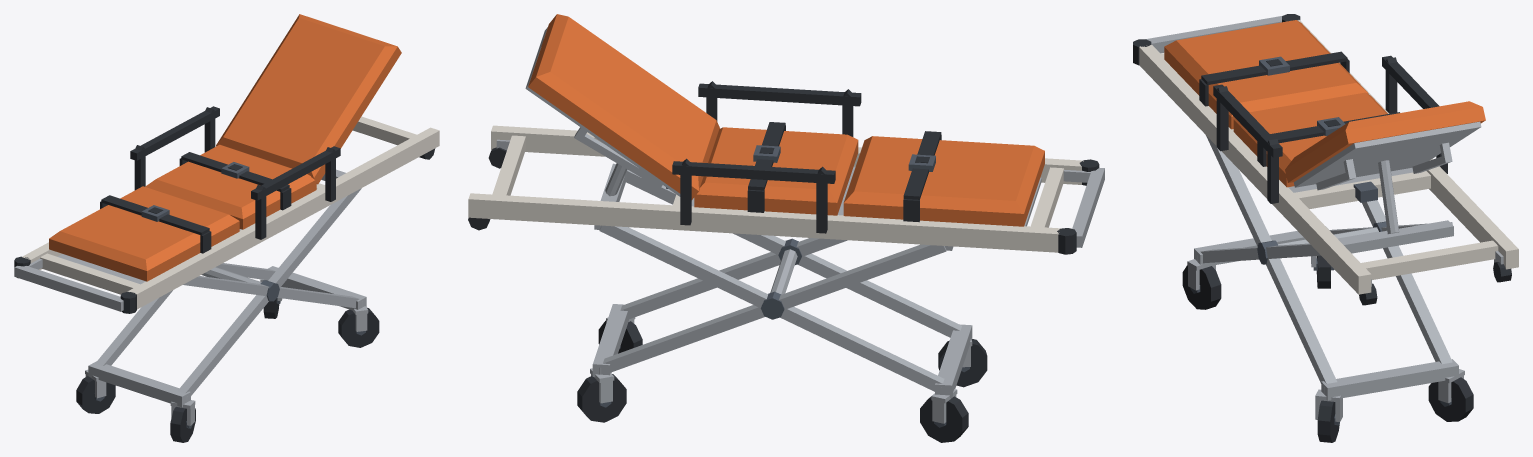
File: stretcher.fbx
3 renders of one model, left to right at view 1: azimuth 30°, elevation 25°; view 2: azimuth 150°, elevation 25°; view 3: azimuth 270°, elevation 25°, orthographic. The views are drawn at different scales.
Parts seen in each view (by area): view 1: Stretcher_Pad_Leg; view 2: Stretcher_Pad_Leg; view 3: Stretcher_Pad_Leg.
Part boxes in pixels (x1,y1,x2,y2): Stretcher_Pad_Leg: (14, 14, 439, 442); Stretcher_Pad_Leg: (468, 14, 1104, 442); Stretcher_Pad_Leg: (1133, 14, 1518, 442).
Size of the model in its own units: 203 by 121 by 125.
